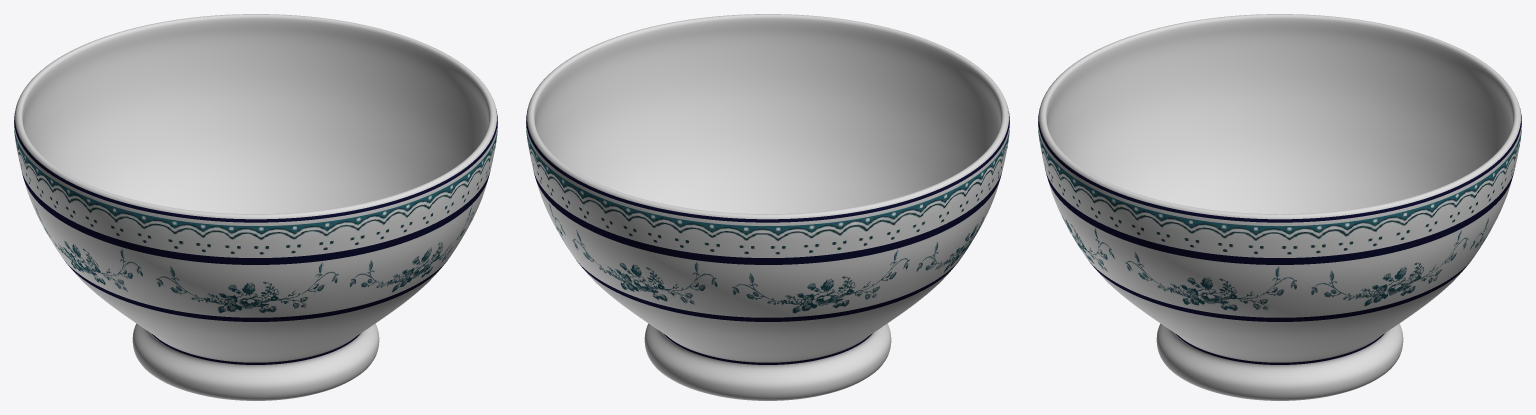
Rendered from Bowl_Faustine.fbx.
The picture shows the model from 3 angles, left to right: view 1: azimuth 30°, elevation 25°; view 2: azimuth 150°, elevation 25°; view 3: azimuth 270°, elevation 25°; orthographic projection.
Visible parts, largest first — view 1: Bol_Ancien_Faustine; view 2: Bol_Ancien_Faustine; view 3: Bol_Ancien_Faustine.
Boxes of the visible parts, <box> form: Bol_Ancien_Faustine: <box>14,14,497,400</box>; Bol_Ancien_Faustine: <box>526,14,1009,400</box>; Bol_Ancien_Faustine: <box>1038,14,1521,400</box>.
Size of the model in its own units: 890 by 486 by 890.
4 materials, 2 textured.
